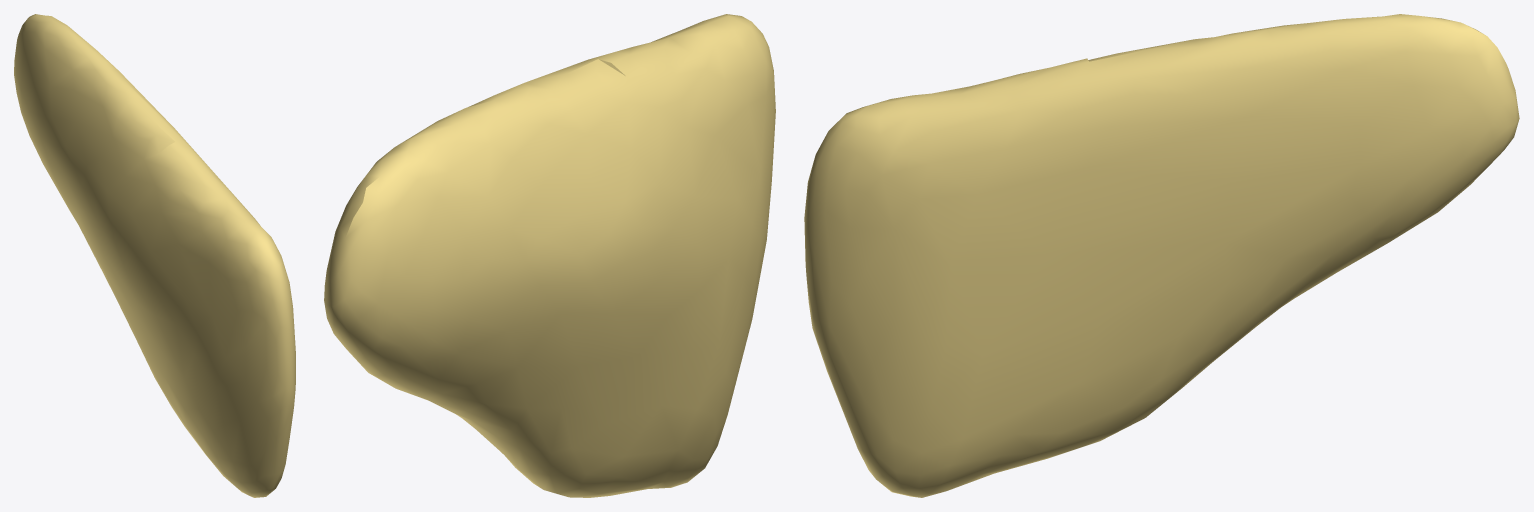
The model's file is fma72889_mm3057.glb.
The picture shows the model from 3 angles, left to right: view 1: azimuth 30°, elevation 25°; view 2: azimuth 150°, elevation 25°; view 3: azimuth 270°, elevation 25°; orthographic projection. The views are drawn at different scales.
Visible parts, largest first — view 1: FMA72889_MM3057; view 2: FMA72889_MM3057; view 3: FMA72889_MM3057.
Part boxes in pixels (left/top/right/bottom): FMA72889_MM3057: left=14, top=14, right=295, bottom=497; FMA72889_MM3057: left=324, top=14, right=775, bottom=497; FMA72889_MM3057: left=804, top=14, right=1519, bottom=497.
Bounding box in the file's own units: 0.0017 × 0.00615 × 0.00854.
